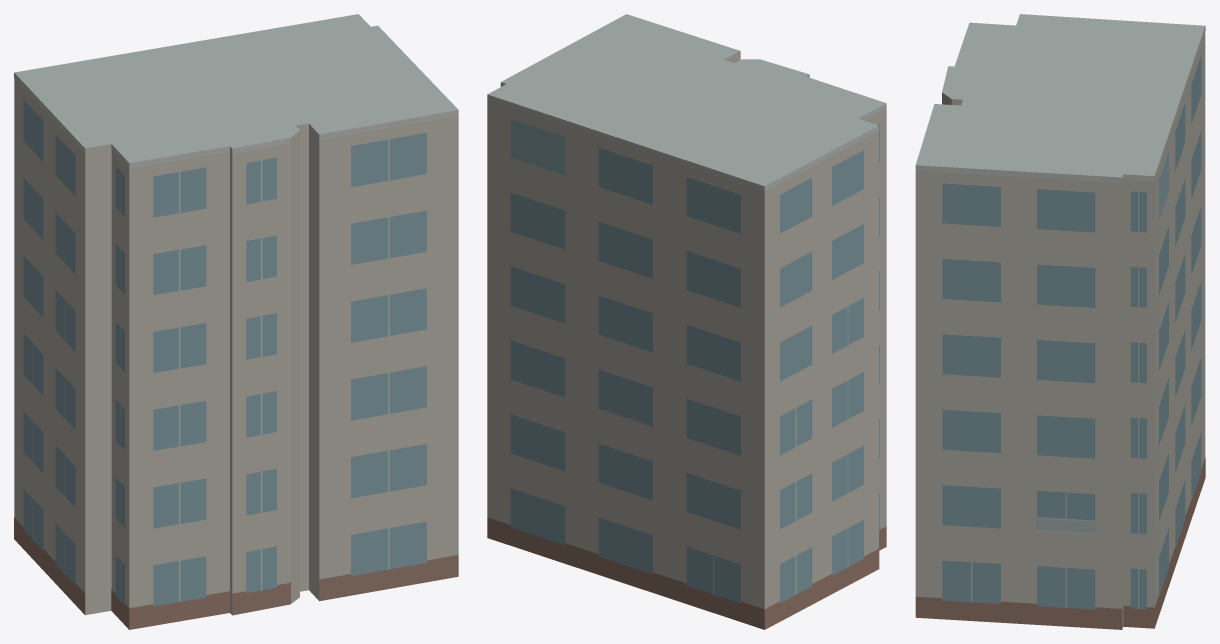
File: survey-upis-32726540.glb
3 views of the same model, side by side, from view 1: azimuth 30°, elevation 25°; view 2: azimuth 150°, elevation 25°; view 3: azimuth 270°, elevation 25° (orthographic). The views are drawn at different scales.
Parts seen in each view (by area): view 1: survey-upis-32726540.tmp; view 2: survey-upis-32726540.tmp; view 3: survey-upis-32726540.tmp.
Part boxes in pixels (left/top/right/bottom): survey-upis-32726540.tmp: left=14, top=14, right=458, bottom=629; survey-upis-32726540.tmp: left=487, top=14, right=886, bottom=629; survey-upis-32726540.tmp: left=915, top=14, right=1205, bottom=629.
Size of the model in its own units: 15.28 by 19.7 by 11.45.
